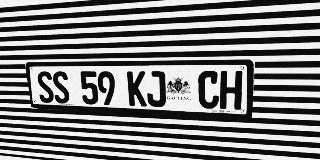5: (80, 71, 99, 105)
9: (97, 71, 116, 105)
C: (198, 71, 220, 109)
H: (219, 71, 243, 110)
J: (146, 71, 166, 107)
K: (127, 71, 147, 106)
S: (51, 71, 70, 104), (36, 71, 55, 103)
